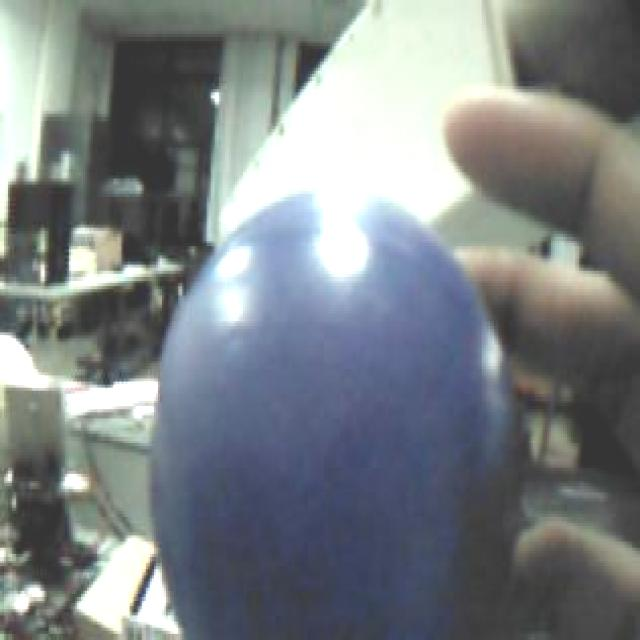BallPurple: (150, 190, 516, 640)
